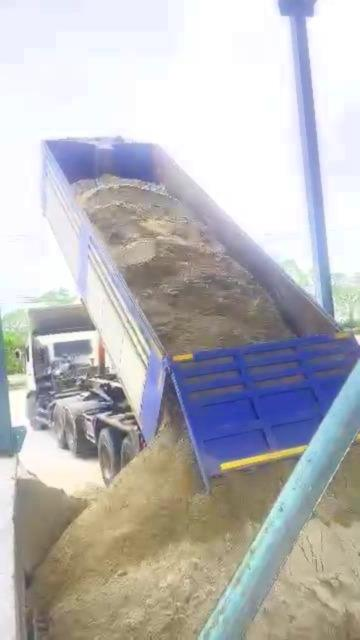sand: (33, 406, 292, 637), (75, 176, 291, 352), (249, 447, 360, 639), (16, 466, 87, 575), (73, 484, 104, 504)
